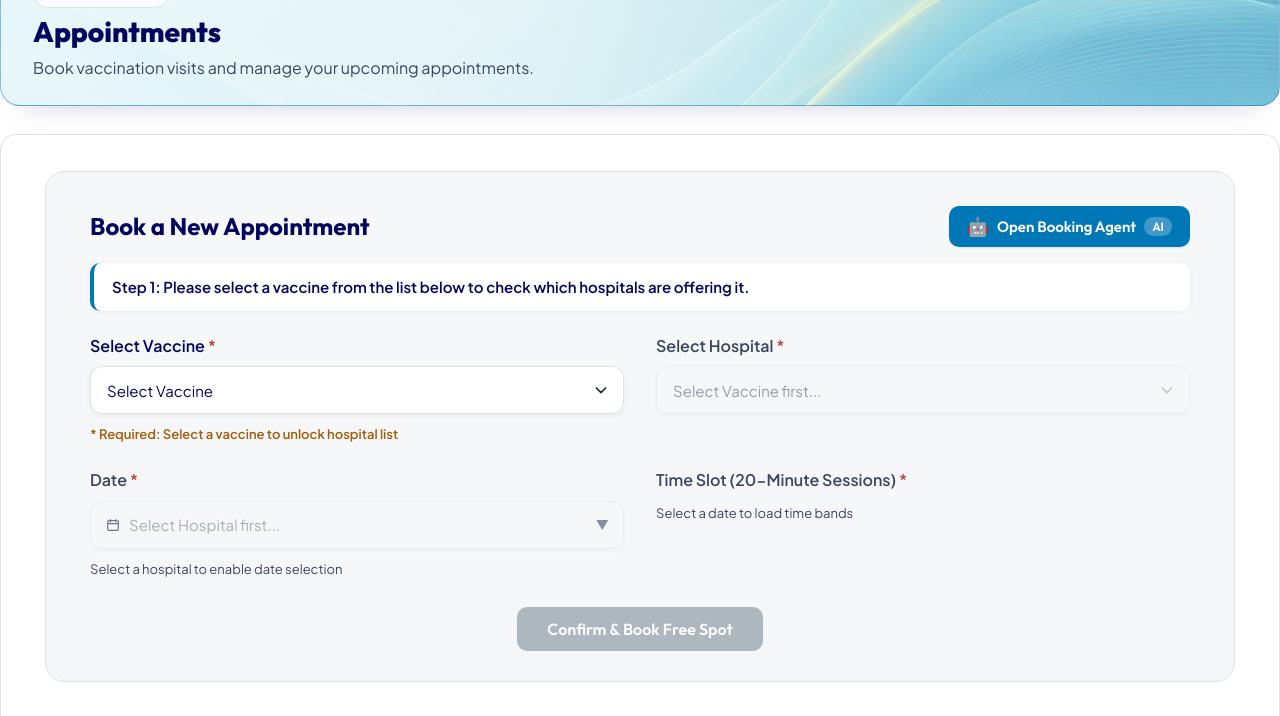
Booking Management - Create Booking Form & Validation › renders and submits create booking form correctly and handles successful API response
The image size is (1280, 716).
Select "COVID-19 mRNA Booster (Moderna) (Routine)" in the dropdown with id "select-vaccine": (357, 390) [91,367,623,413]
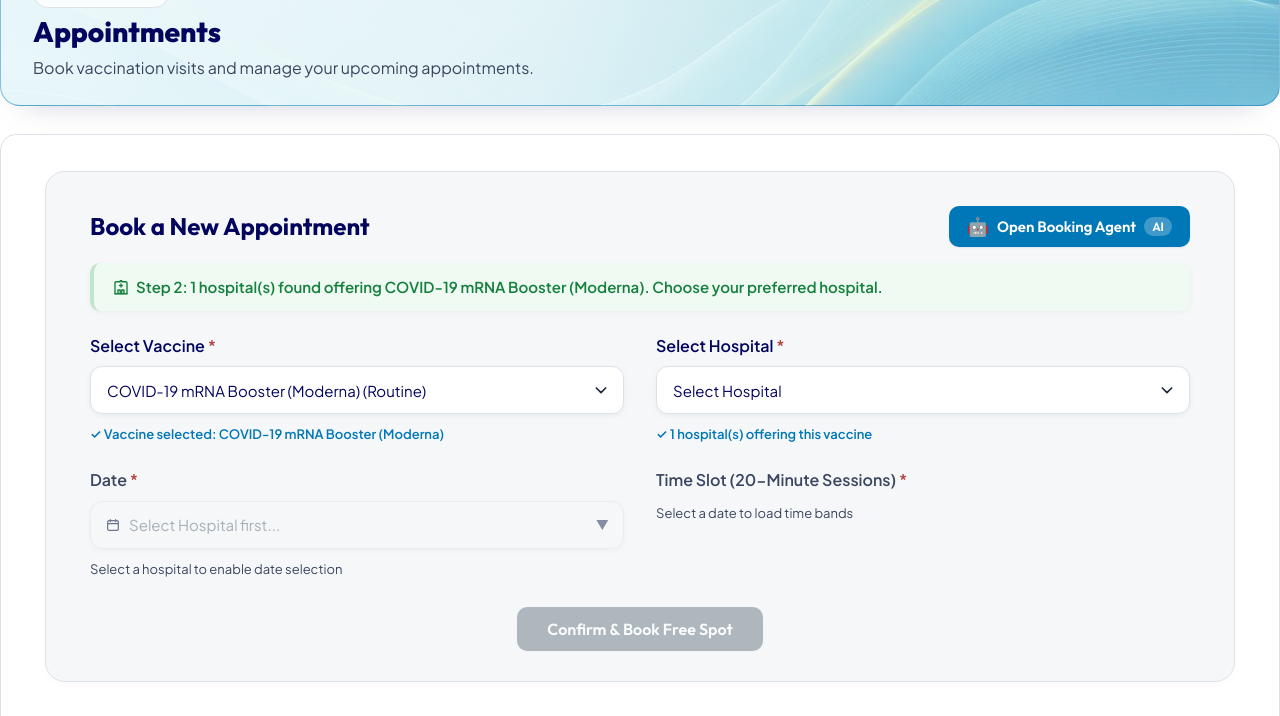
Result: the dropdown with id "select-hospital" is enabled
Select "National Hospital Colombo - Colombo 07" in the dropdown with id "select-hospital": (923, 390) [657,367,1189,413]
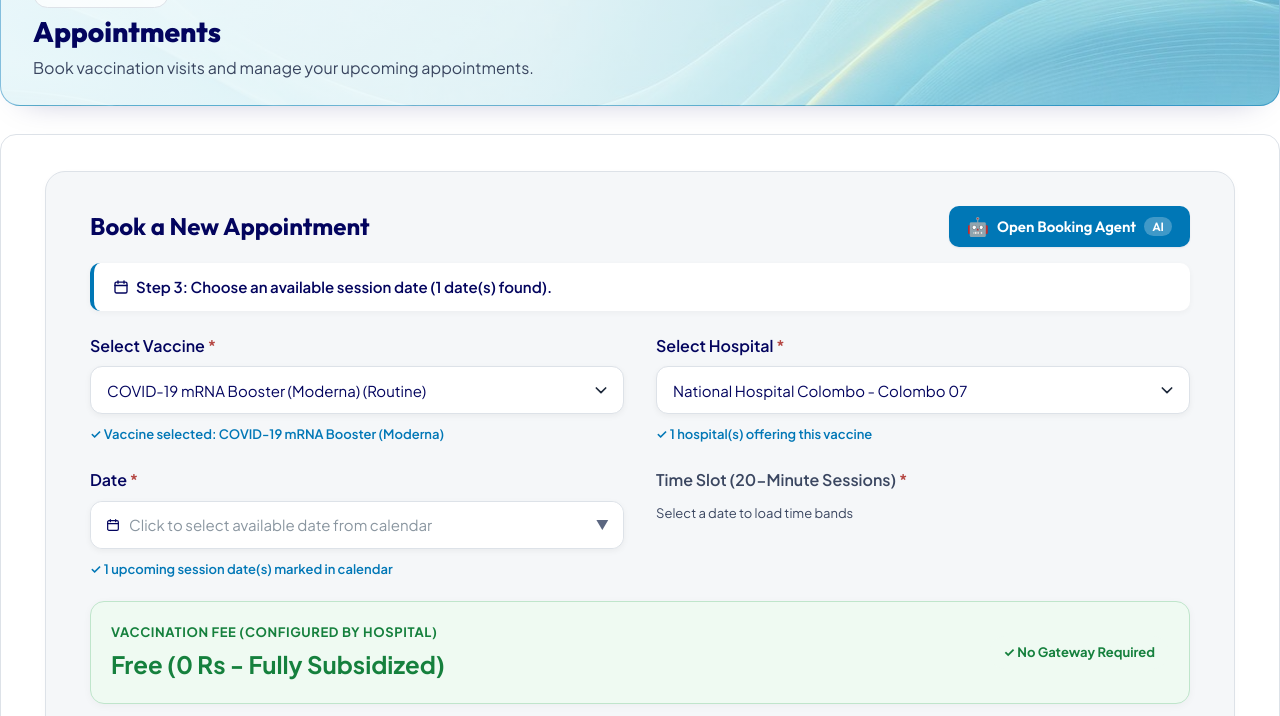
Open Calendar popup and choose Date
Click the text "Click to select available date from calendar": (281, 524) [129,515,432,534]
(page scrolled)
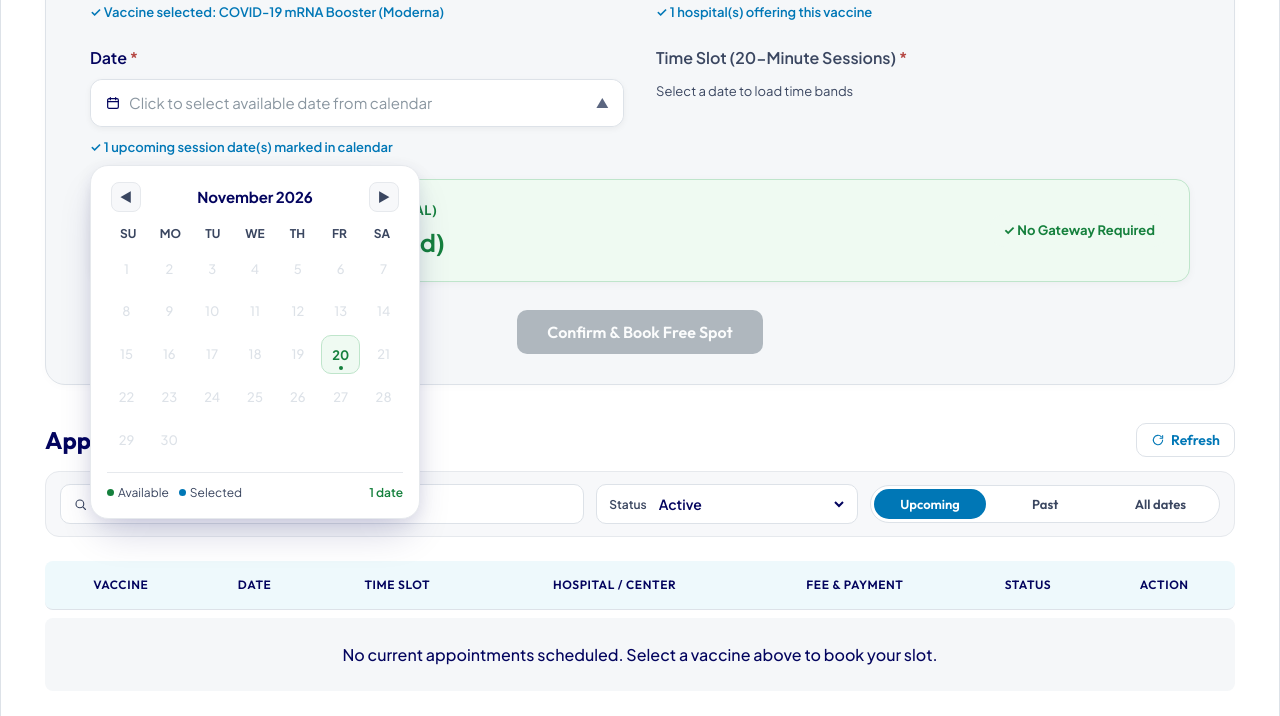
Click the button titled "2026-11-20": (341, 355) [321,335,360,374]
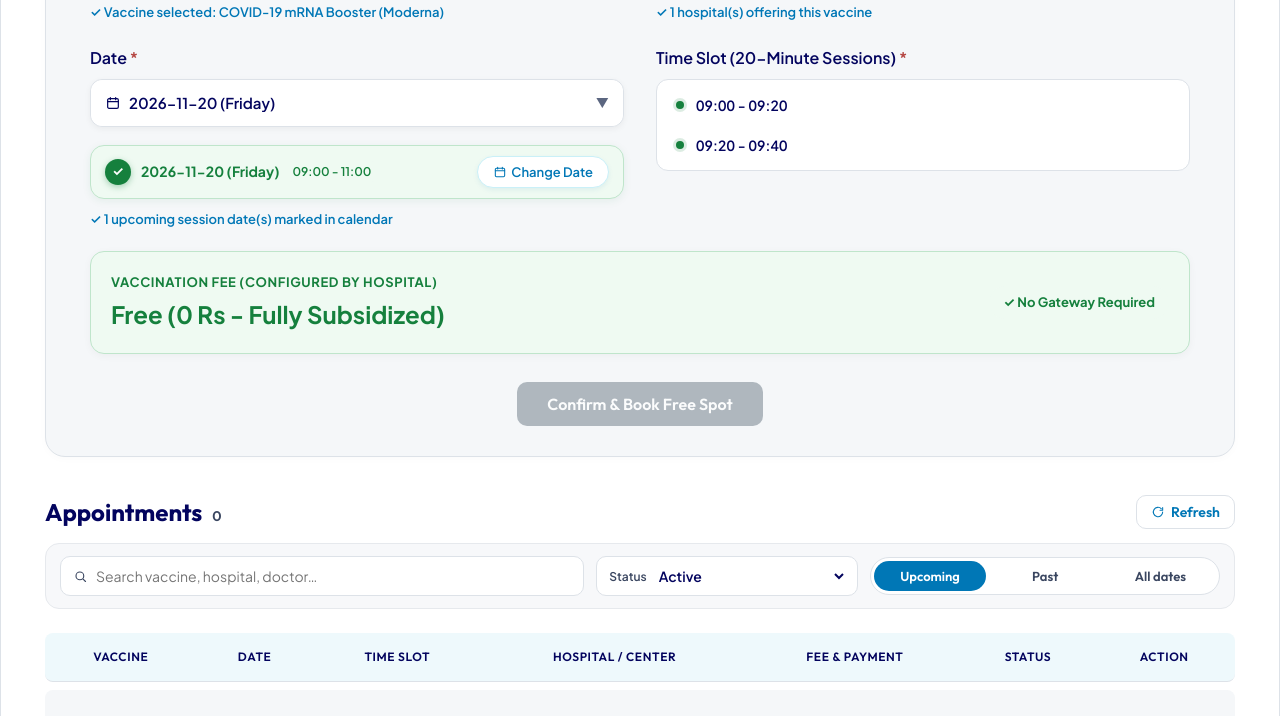
Wait for slots to finish loading into select
Click the option "09:00 - 09:20": (742, 104) [663,86,1183,124]
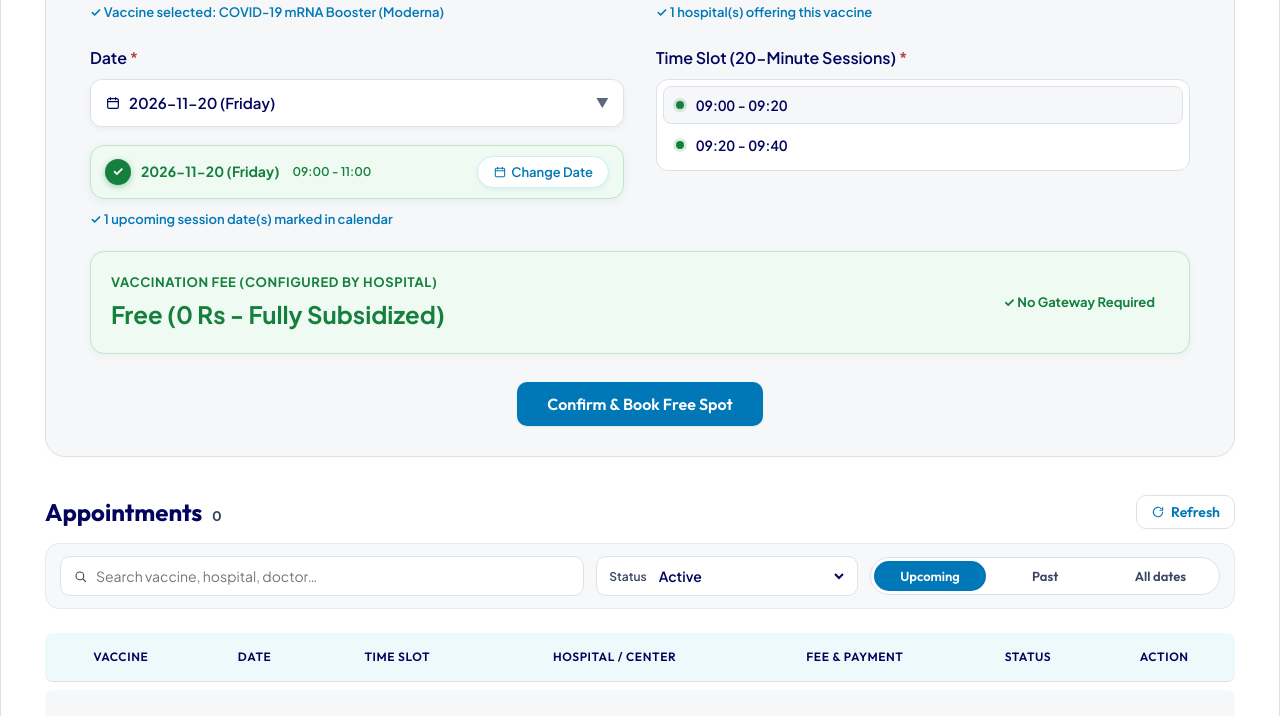
Result: the button with class "btn-book-appointment" is enabled
Click the button with class "btn-book-appointment": (640, 404) [517,382,763,426]
(page scrolled)
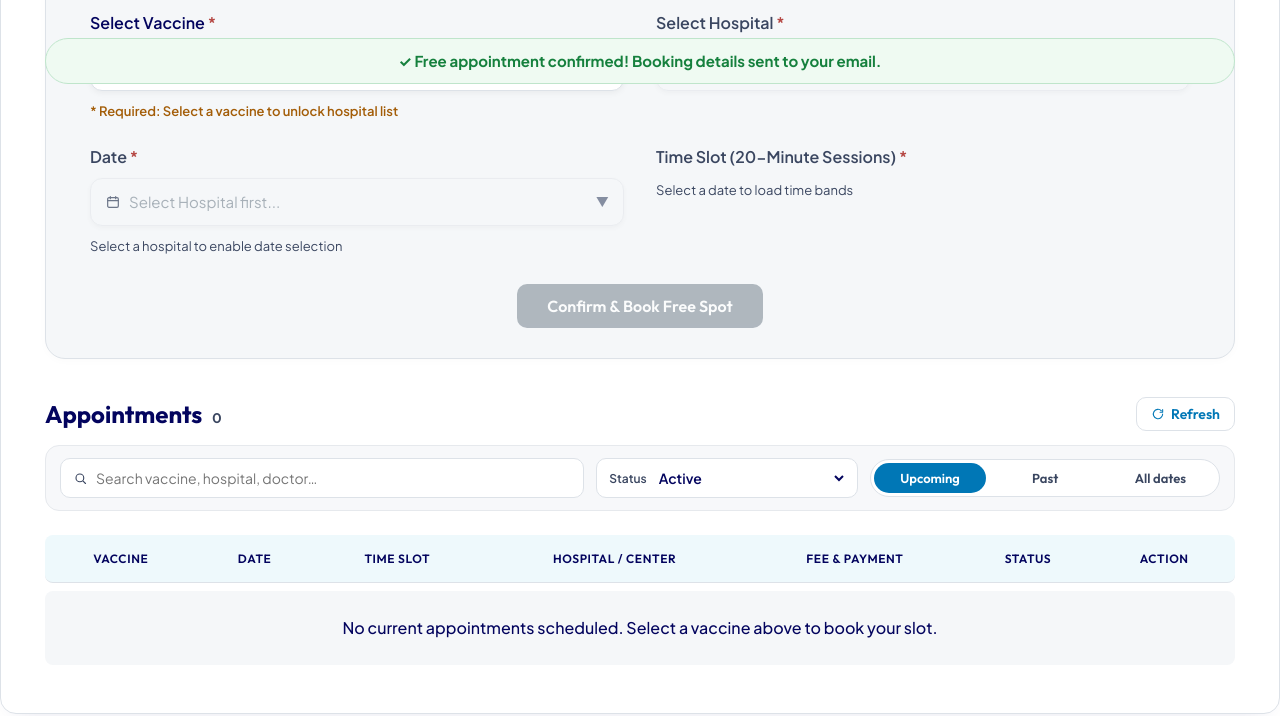
Result: the text "✓ Free appointment confirmed! Booking details sent to your email." is shown at [45,38,1235,84]
